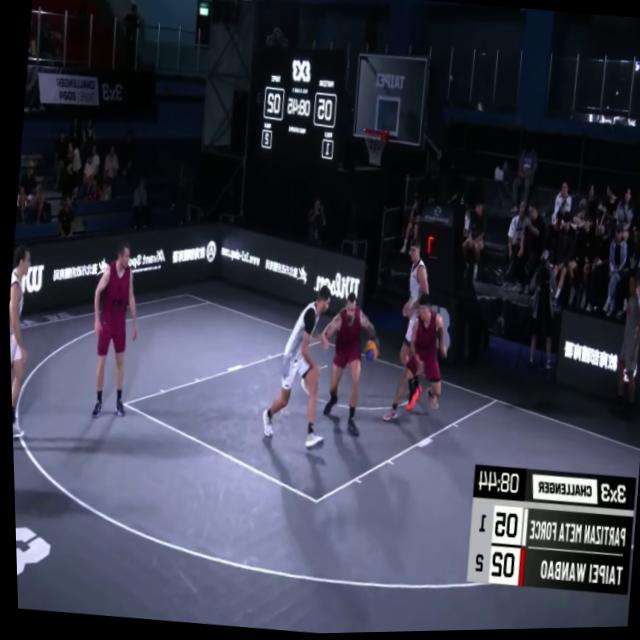ball: (360, 335, 380, 370)
hoop: (359, 128, 388, 169)
player: (255, 284, 342, 455), (80, 240, 147, 420), (308, 290, 379, 438), (379, 295, 452, 430), (387, 233, 439, 415), (6, 245, 39, 445)
